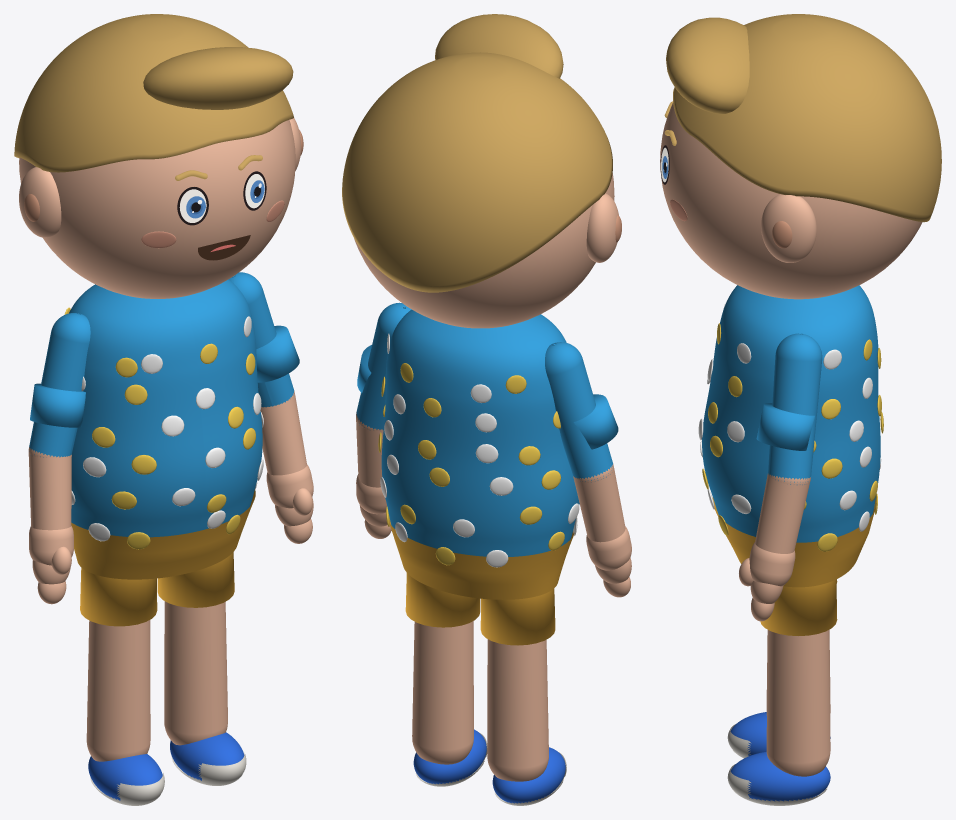
The model's file is figurant_e.glb.
The picture shows the model from 3 angles, left to right: view 1: azimuth 30°, elevation 25°; view 2: azimuth 150°, elevation 25°; view 3: azimuth 270°, elevation 25°; orthographic projection. The views are drawn at different scales.
Visible parts, largest first — view 1: figurant_e_romp, figurant_e_hoofd, figurant_e_haar, figurant_e_been_L, figurant_e_been_R, figurant_e_haar_kuif, figurant_e, figurant_e_short_heup, figurant_e_bovenarm_R, figurant_e_short_R, figurant_e_onderarm_R, figurant_e_onderarm_L (+13 smaller); view 2: figurant_e_haar, figurant_e_romp, figurant_e_hoofd, figurant_e_been_R, figurant_e_been_L, figurant_e, figurant_e_short_heup, figurant_e_bovenarm_R, figurant_e_haar_kuif, figurant_e_short_R, figurant_e_bovenarm_L, figurant_e_short_L (+8 smaller); view 3: figurant_e_haar, figurant_e_romp, figurant_e_hoofd, figurant_e_been_L, figurant_e_haar_kuif, figurant_e, figurant_e_bovenarm_L, figurant_e_short_heup, figurant_e_short_L, figurant_e_onderarm_L, figurant_e_schoen_L, figurant_e_oor_L (+4 smaller).
Boxes of the visible parts, <box> form: figurant_e_romp: <box>69,279,262,537</box>; figurant_e_hoofd: <box>19,120,295,298</box>; figurant_e_haar: <box>14,14,293,172</box>; figurant_e_been_L: <box>164,601,227,745</box>; figurant_e_been_R: <box>86,620,150,761</box>; figurant_e_haar_kuif: <box>143,47,293,109</box>; figurant_e: <box>64,307,263,549</box>; figurant_e_short_heup: <box>71,489,255,579</box>; figurant_e_bovenarm_R: <box>29,313,90,457</box>; figurant_e_short_R: <box>80,567,157,626</box>; figurant_e_onderarm_R: <box>28,447,71,530</box>; figurant_e_onderarm_L: <box>260,394,306,475</box>; figurant_e_haar: <box>342,52,612,292</box>; figurant_e_romp: <box>381,309,579,556</box>; figurant_e_hoofd: <box>354,173,614,328</box>; figurant_e_been_R: <box>487,639,548,781</box>; figurant_e_been_L: <box>412,621,473,764</box>; figurant_e: <box>378,333,579,567</box>; figurant_e_short_heup: <box>388,520,574,599</box>; figurant_e_bovenarm_R: <box>545,342,612,482</box>; figurant_e_haar_kuif: <box>435,14,563,78</box>; figurant_e_short_R: <box>480,588,555,645</box>; figurant_e_bovenarm_L: <box>356,302,411,430</box>; figurant_e_short_L: <box>405,573,480,627</box>; figurant_e_haar: <box>673,14,941,222</box>; figurant_e_romp: <box>702,285,880,542</box>; figurant_e_hoofd: <box>660,103,922,299</box>; figurant_e_been_L: <box>766,630,830,776</box>; figurant_e_haar_kuif: <box>666,17,749,113</box>; figurant_e: <box>698,300,883,551</box>; figurant_e_bovenarm_L: <box>768,333,822,484</box>; figurant_e_short_heup: <box>712,497,876,587</box>; figurant_e_short_L: <box>760,579,837,635</box>; figurant_e_onderarm_L: <box>755,474,809,553</box>; figurant_e_schoen_L: <box>730,751,830,801</box>; figurant_e_oor_L: <box>761,194,816,262</box>.
Bounding box in the file's own units: 0.6978 × 1.82 × 0.6105.
